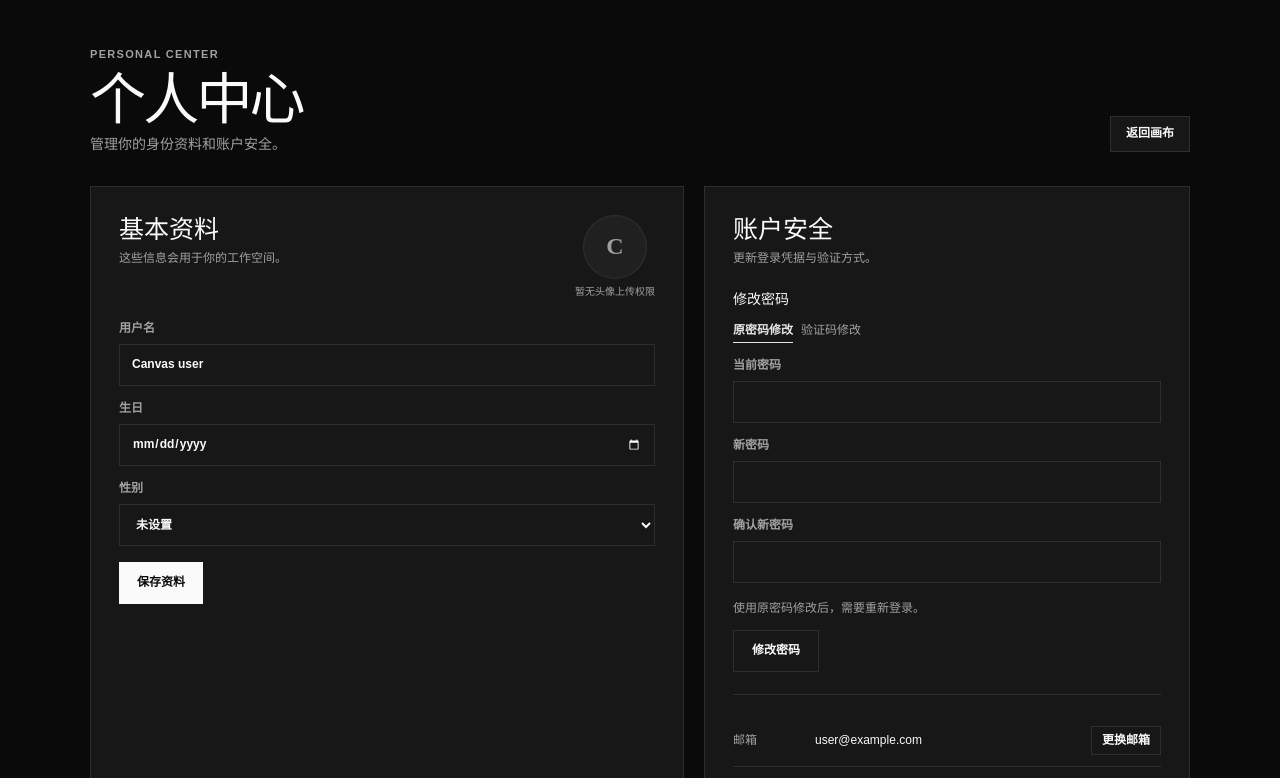
Test: Personal center security and partial failures › keeps a successful save visible if refreshing identity fails
This screenshot has width=1280, height=778.
Replace the text in the field labelled "用户名" with "New name" at [387, 365], box top-left (119, 344), bottom-right (655, 386)
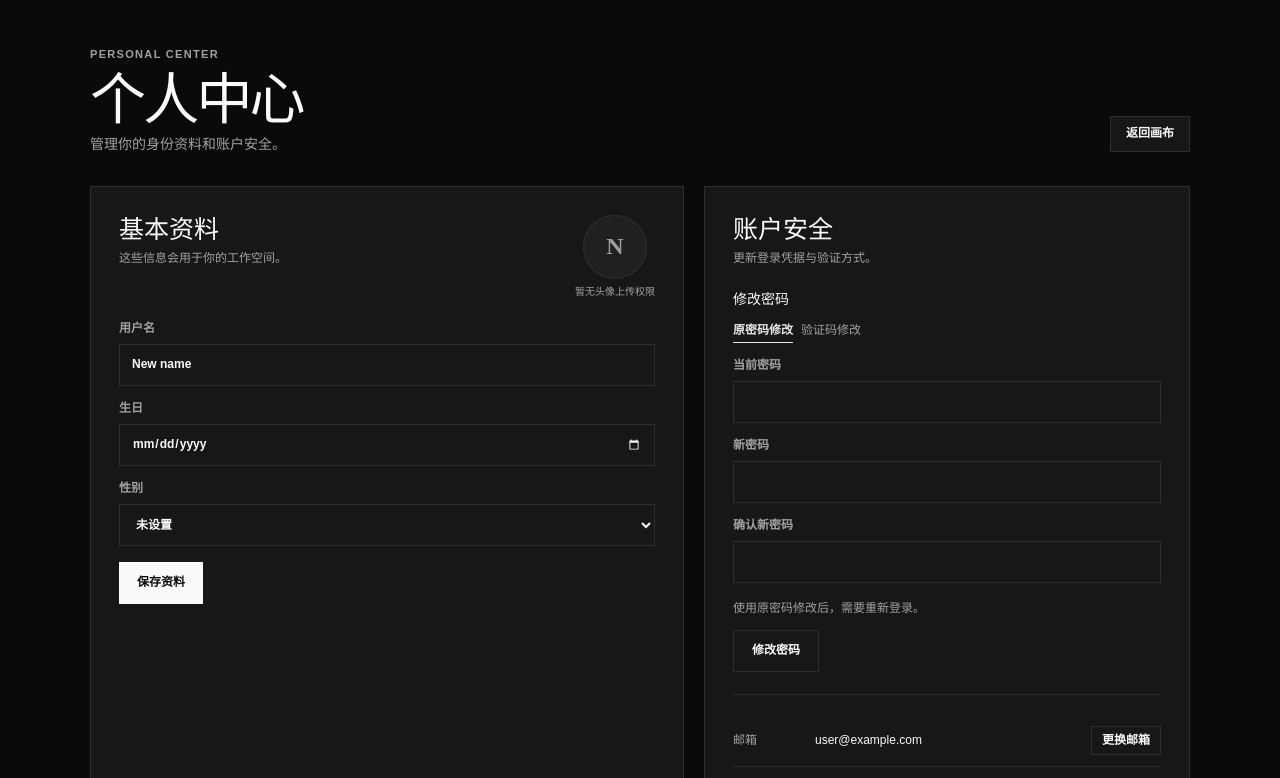
Click the button "保存资料" at [161, 583], box top-left (119, 562), bottom-right (203, 604)
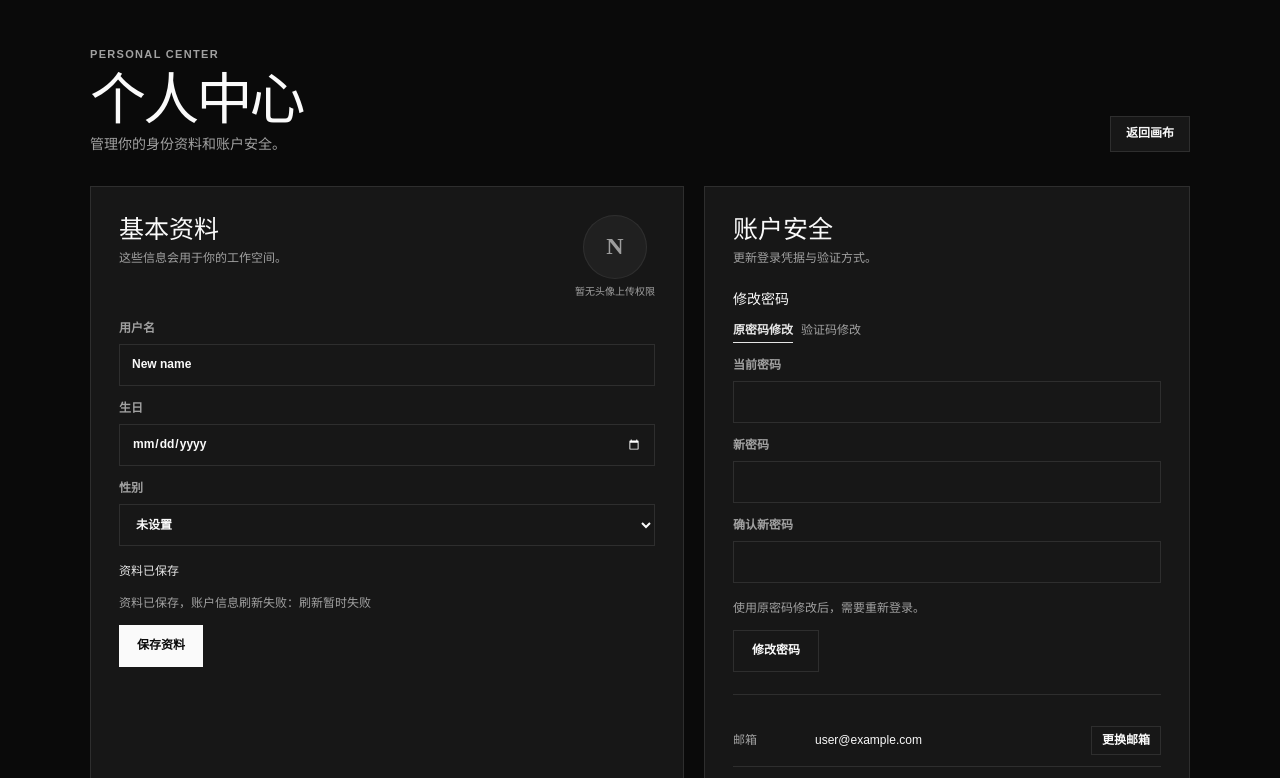
Result: the text "资料已保存" is shown at top-left (119, 564), bottom-right (179, 578)
Result: the text "资料已保存，账户信息刷新失败：刷新暂时失败" is shown at top-left (119, 596), bottom-right (371, 610)
